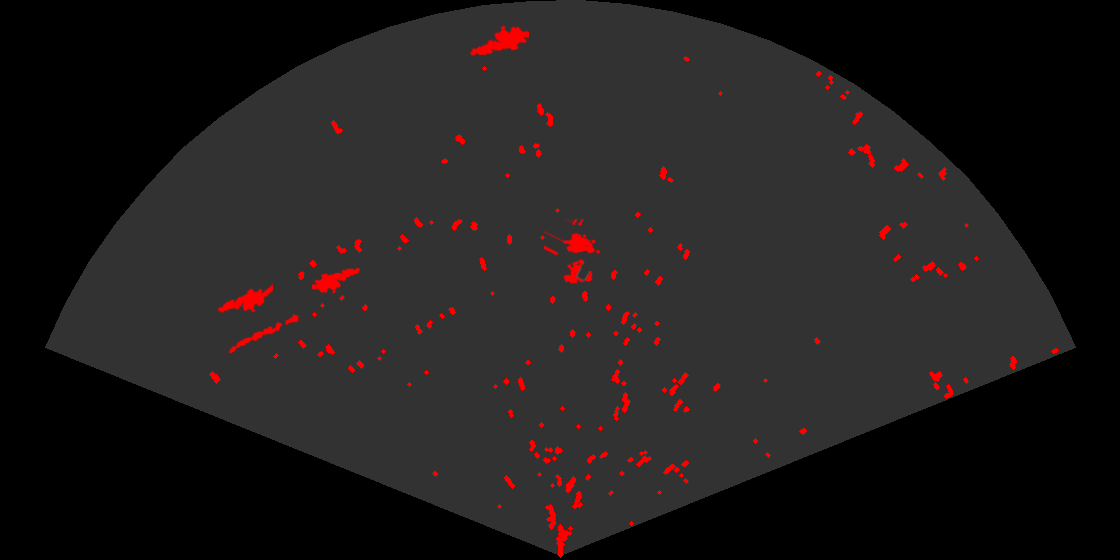cage: (544, 219, 602, 285)
chain: (227, 312, 302, 355)
frogman: (469, 24, 529, 57), (216, 282, 273, 314), (312, 266, 360, 295)
